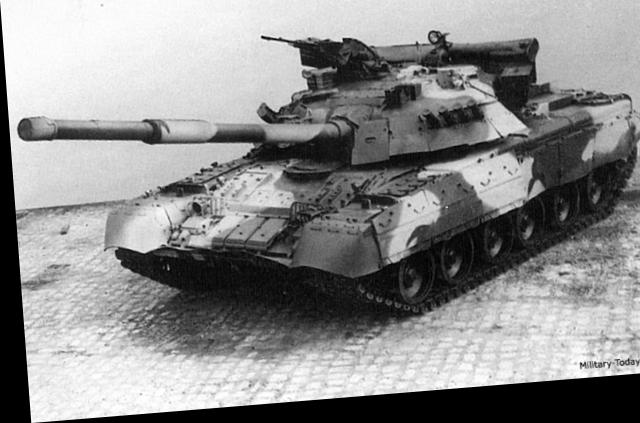tank: (104, 23, 640, 286)
